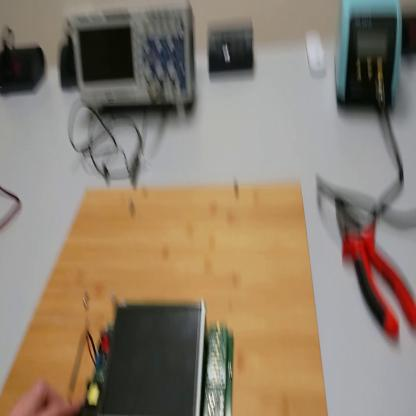hand: (9, 378, 73, 416)
low voltage board: (73, 293, 237, 415)
oscilloscope: (72, 2, 197, 124)
oscilloscope probe tip: (132, 136, 146, 182)
pliers: (337, 198, 416, 339)
socket: (2, 43, 47, 94), (61, 42, 78, 90), (405, 12, 416, 62)
welder station: (336, 3, 404, 115)
working area: (1, 176, 330, 415)
